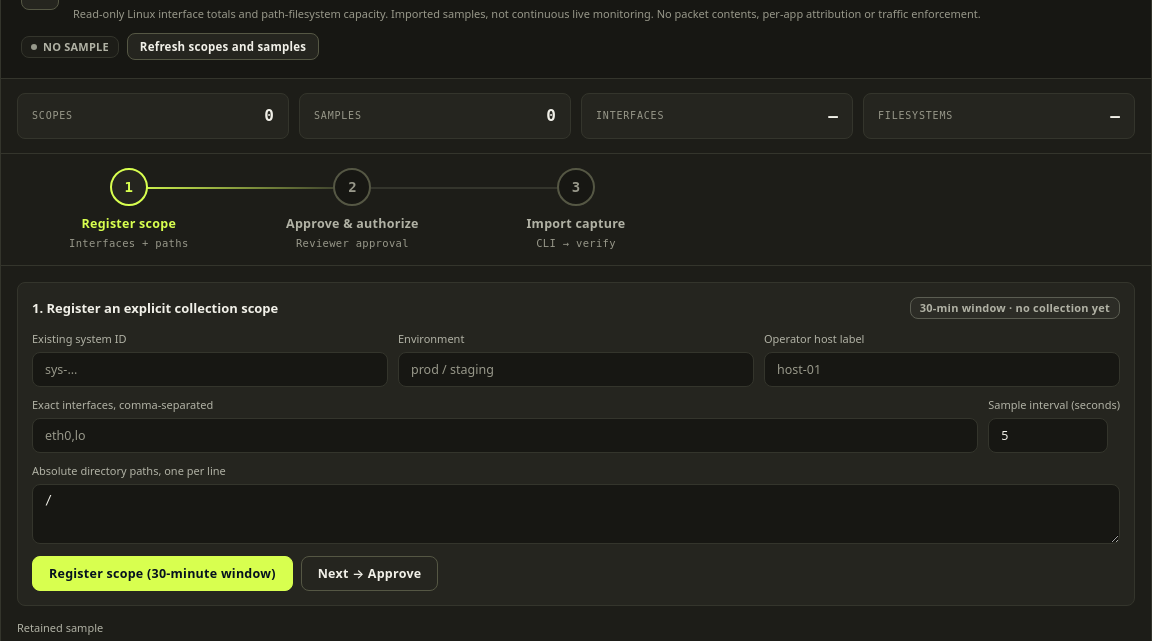
Test case: saves only a draft and never calls an apply endpoint
Click the button "Refresh scopes and samples".
click(223, 47)  # box [127, 34, 319, 60]
(page scrolled)
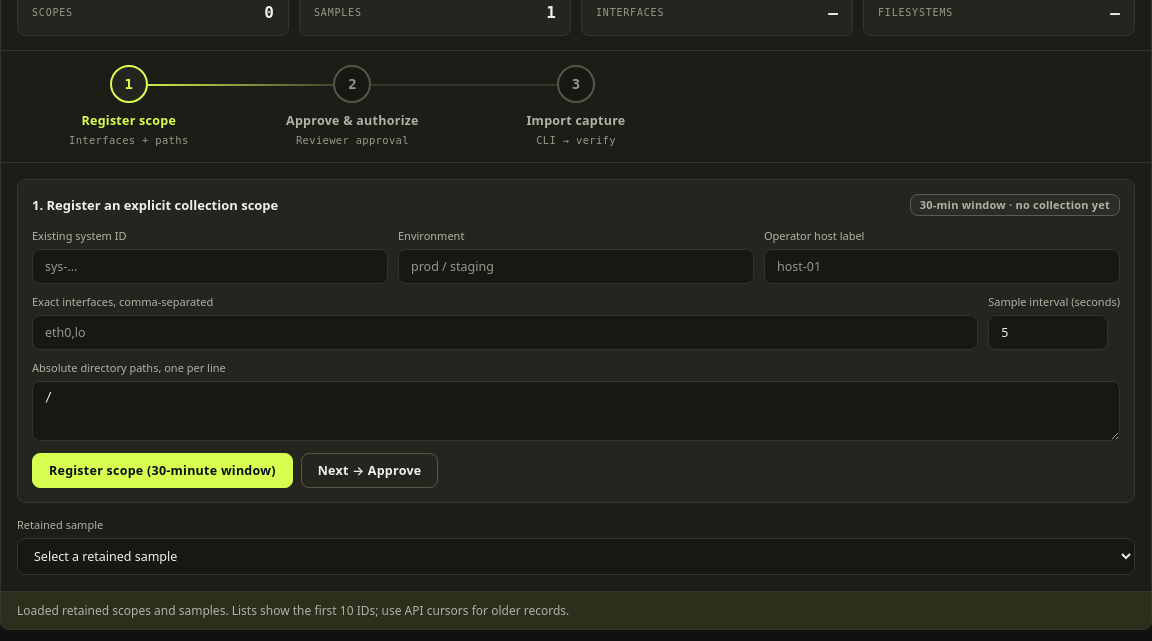
Select "synthetic-linux — recent" in the dropdown labelled "Retained sample" at (576, 556), box [17, 538, 1135, 575]
(page scrolled)
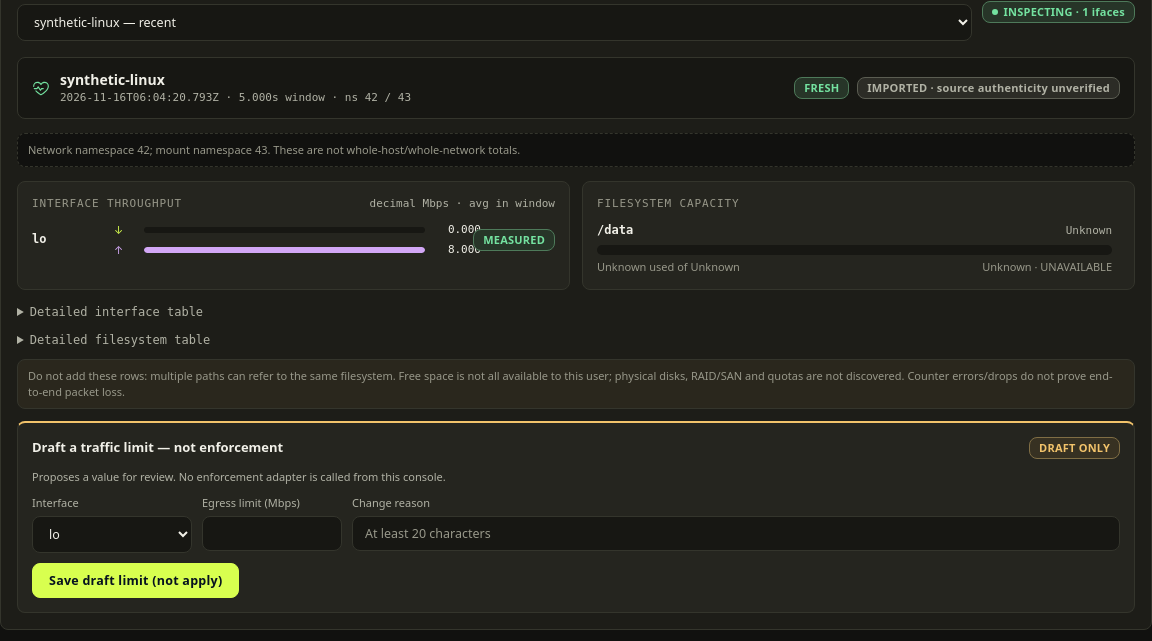
Expected: the text "synthetic-linux" is shown, [60, 70, 165, 89]
Type "10" into the number field labelled "Egress limit (Mbps)".
click(272, 533); type("10")  # box [202, 516, 342, 551]
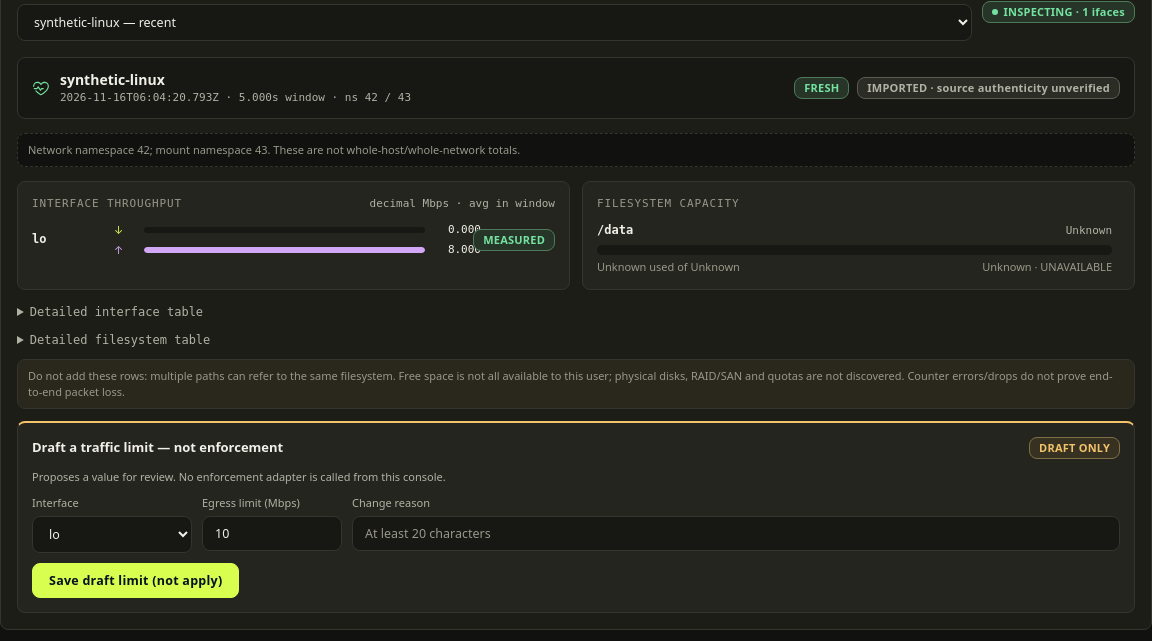
Type "Approved review of a proposed traffic limit" into the field labelled "Change reason".
click(736, 533); type("Approved review of a proposed traffic limit")  # box [352, 516, 1120, 551]
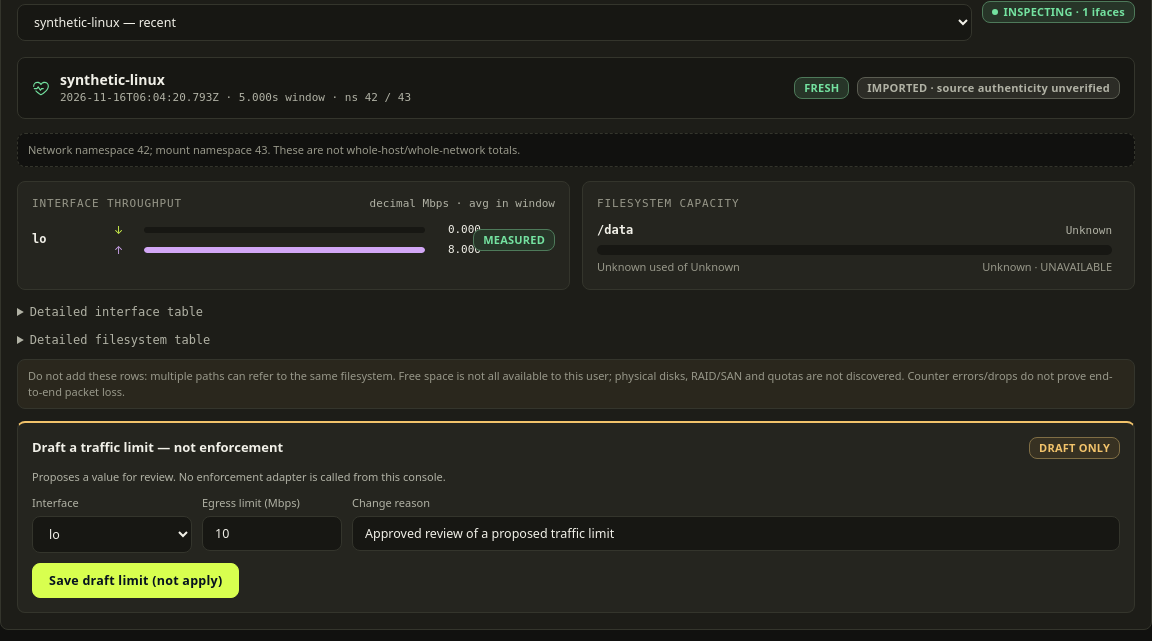
Click the button "Save draft limit (not apply)".
click(136, 580)  # box [32, 563, 239, 598]
(page scrolled)
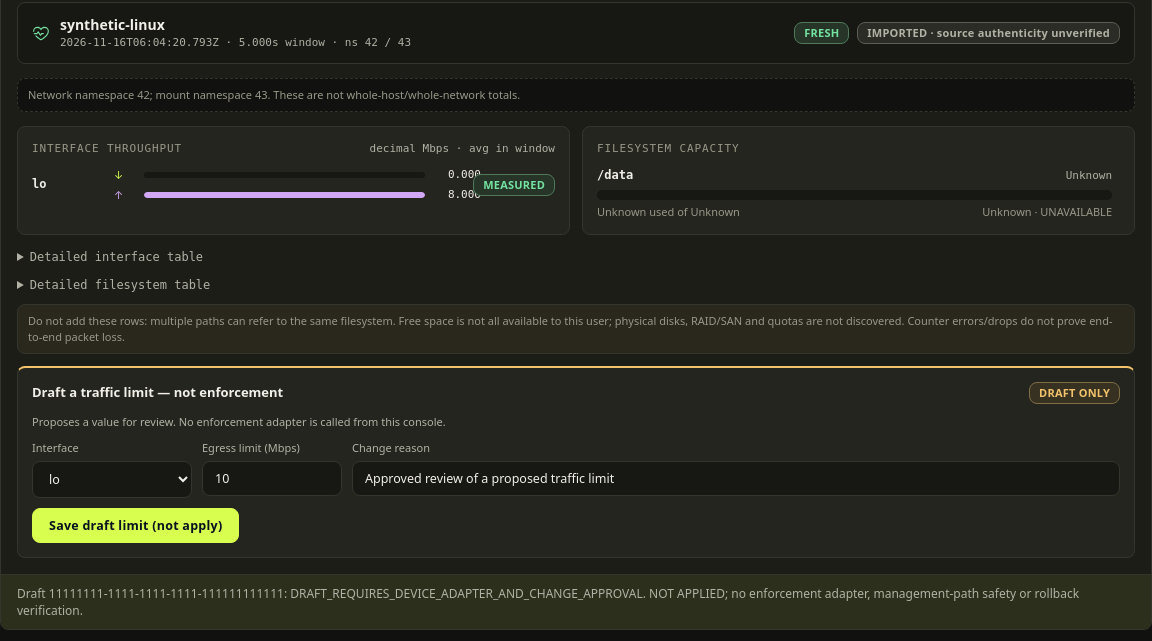
Expected: the text "NOT APPLIED; no enforcement adapter" is shown, [17, 585, 1079, 619]
